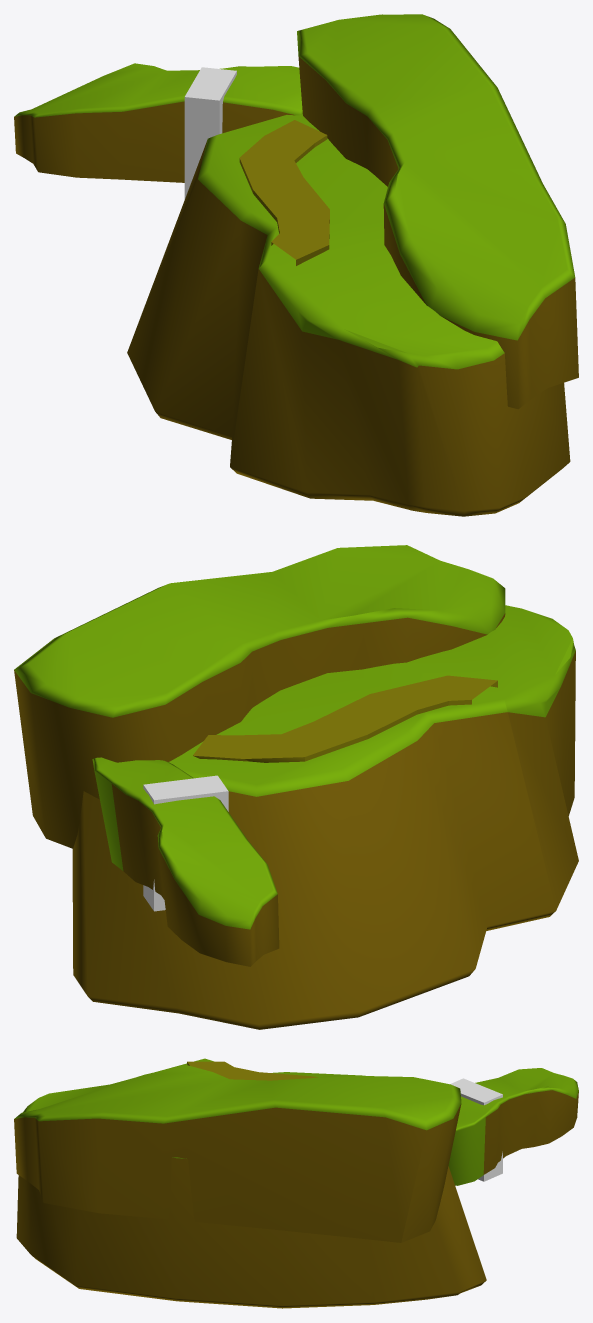
File: SM_W_HighPlatform.fbx
The picture shows the model from 3 angles, top to bottom: view 1: azimuth 30°, elevation 25°; view 2: azimuth 150°, elevation 25°; view 3: azimuth 270°, elevation 25°; orthographic projection. The views are drawn at different scales.
Visible parts, largest first — view 1: Upper_Path_Mass1; view 2: Upper_Path_Mass1; view 3: Upper_Path_Mass1.
Boxes of the visible parts, x1,y1,x2,y2 form: Upper_Path_Mass1: (14, 14, 578, 516); Upper_Path_Mass1: (14, 545, 578, 1029); Upper_Path_Mass1: (14, 1058, 578, 1308).
Bounding box in the file's own units: 1102 × 820 × 1996.
